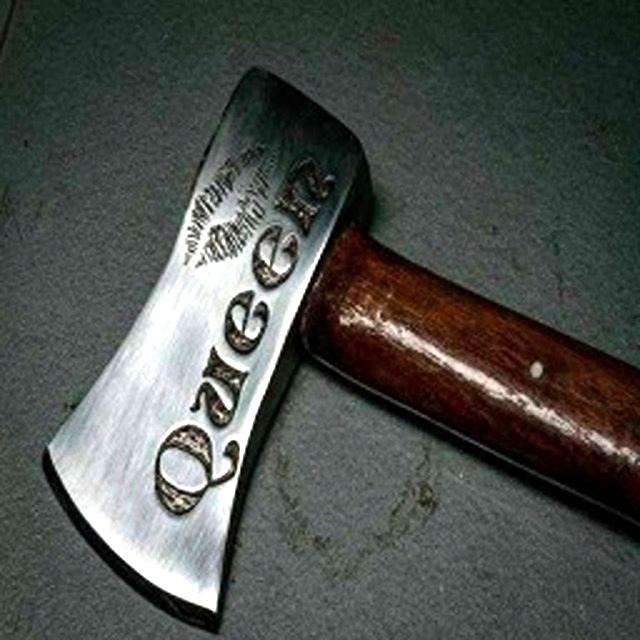ax: (28, 54, 640, 637)
